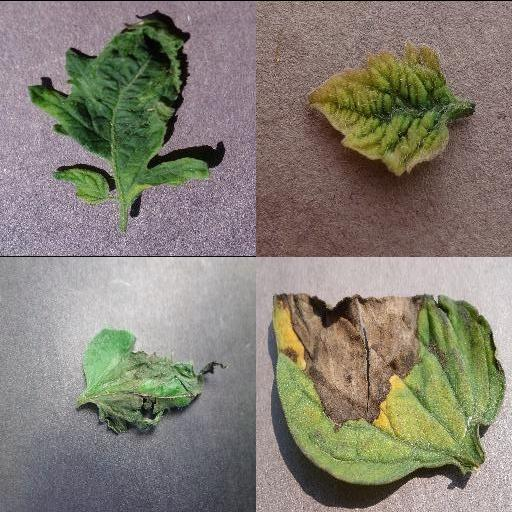Late Blight: (271, 291, 505, 487), (80, 326, 230, 440)
Mosaic Virus: (29, 18, 211, 200)
Yellow Leaf Curl Virus: (306, 40, 454, 172)
